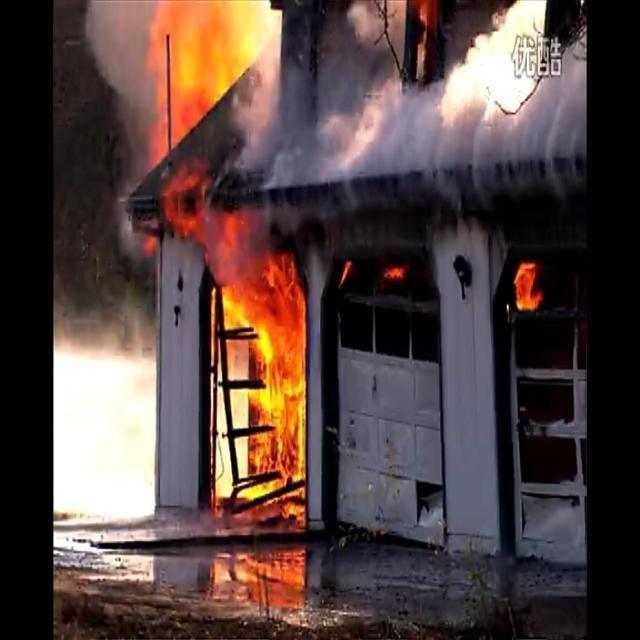Fire: (148, 1, 308, 526), (514, 262, 542, 310), (378, 262, 410, 290), (337, 258, 353, 290)
Smoke: (229, 1, 586, 252), (83, 0, 155, 266)
